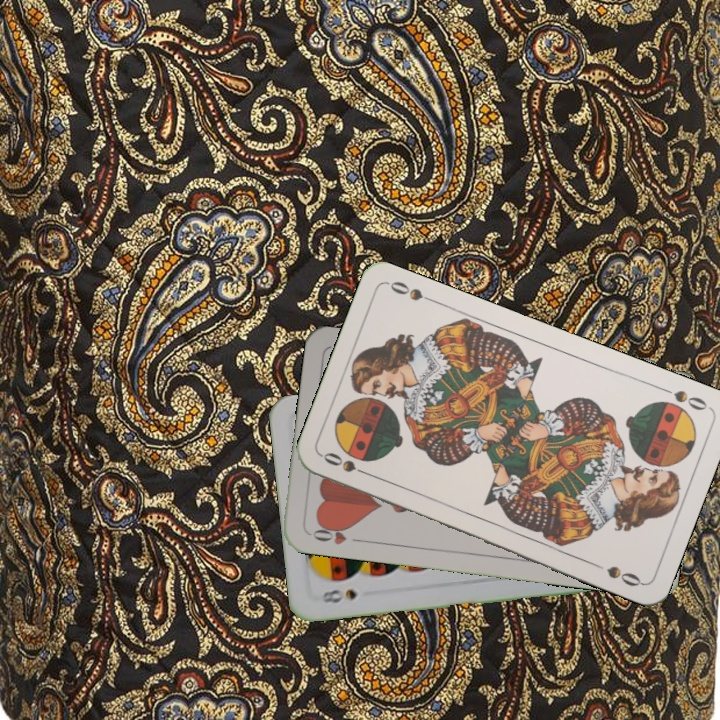HO: (306, 519, 365, 547)
S8: (318, 585, 360, 606)
SO: (319, 448, 375, 480), (655, 382, 712, 413)
